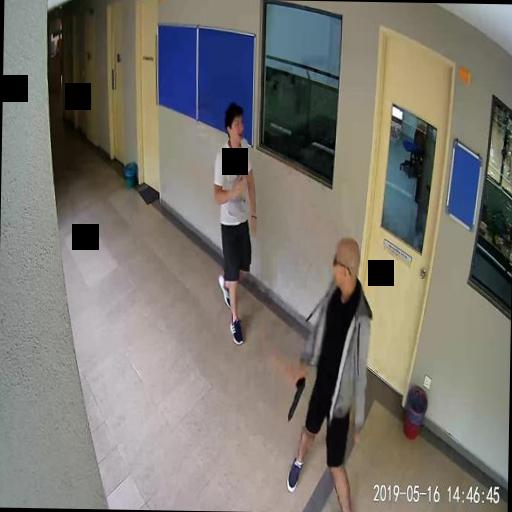Handgun: (287, 370, 306, 420)
